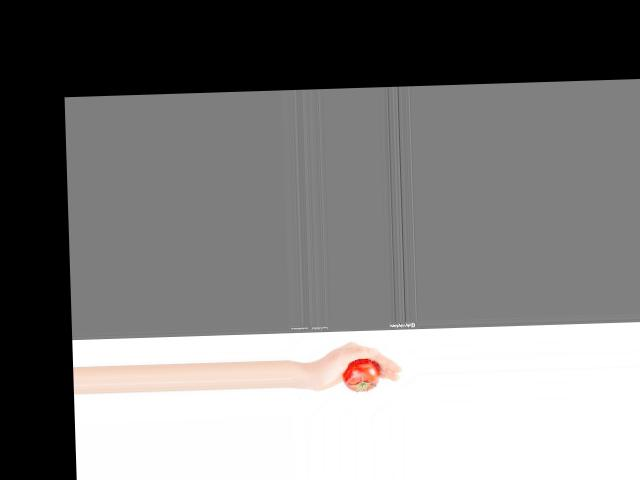tomato: (341, 358, 378, 391)
